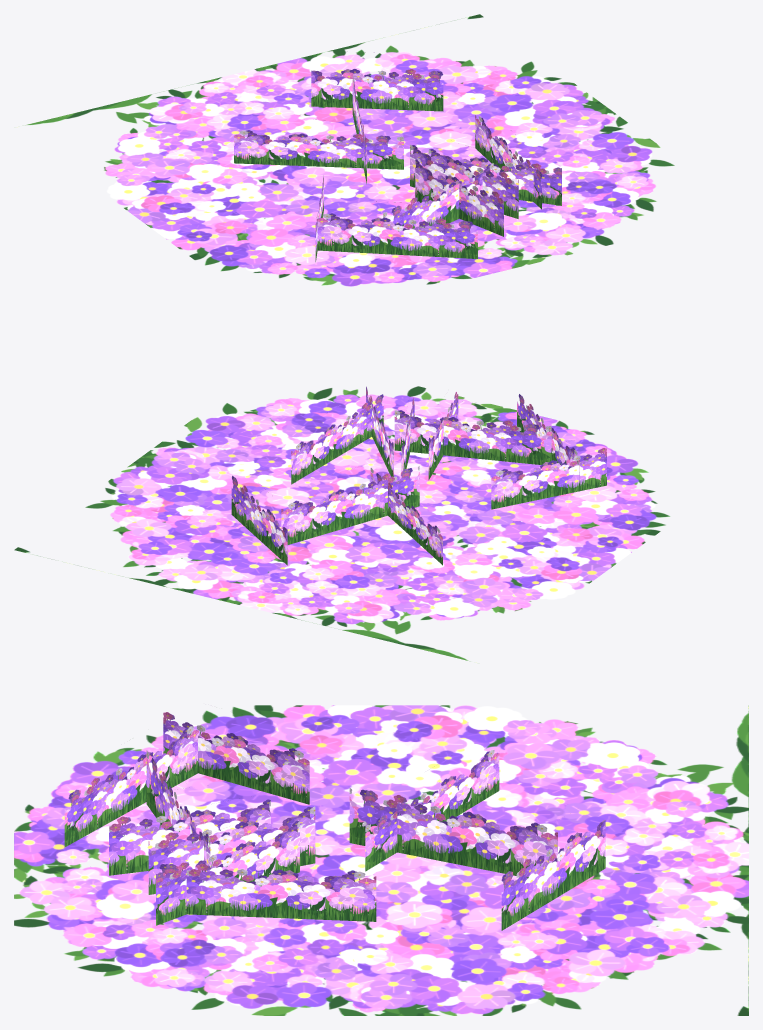
The model's file is flower_clump_b.glb.
3 renders of one model, top to bottom at view 1: azimuth 30°, elevation 25°; view 2: azimuth 150°, elevation 25°; view 3: azimuth 270°, elevation 25°, orthographic. The views are drawn at different scales.
Parts seen in each view (by area): view 1: main; view 2: main; view 3: main.
Part boxes in pixels (box(x1,y1,x2,y2)): main: box(21, 14, 674, 286); main: box(14, 386, 669, 661); main: box(14, 705, 748, 1015).
Size of the model in its own units: 10 by 1.31 by 10.
Materials: 1 (1 with a texture image).
